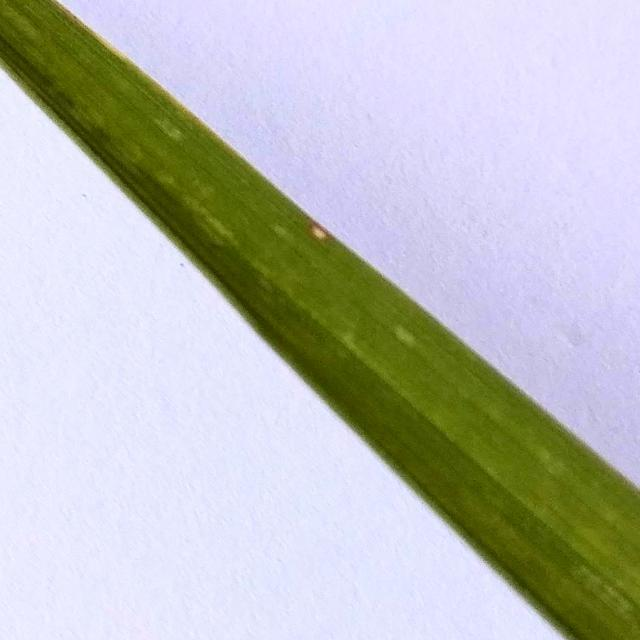Blast: (307, 224, 333, 242)
